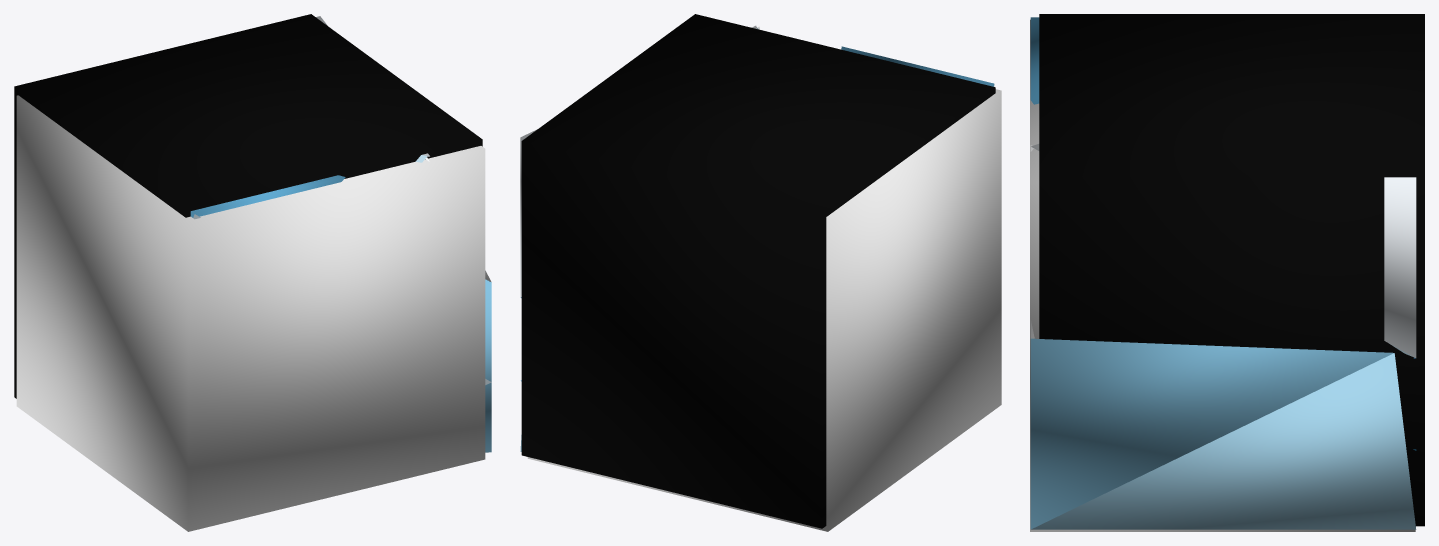
3 views of the same model, side by side, from view 1: azimuth 30°, elevation 25°; view 2: azimuth 150°, elevation 25°; view 3: azimuth 270°, elevation 25° (orthographic). The views are drawn at different scales.
Parts seen in each view (by area): view 1: Renderer Node; view 2: Renderer Node; view 3: Renderer Node.
Part boxes in pixels (x1=…): Renderer Node: x1=14, y1=14, x2=491, y2=531; Renderer Node: x1=520, y1=14, x2=1001, y2=531; Renderer Node: x1=1030, y1=14, x2=1424, y2=531.
Size of the model in its own units: 1.14 by 1.14 by 1.14.
